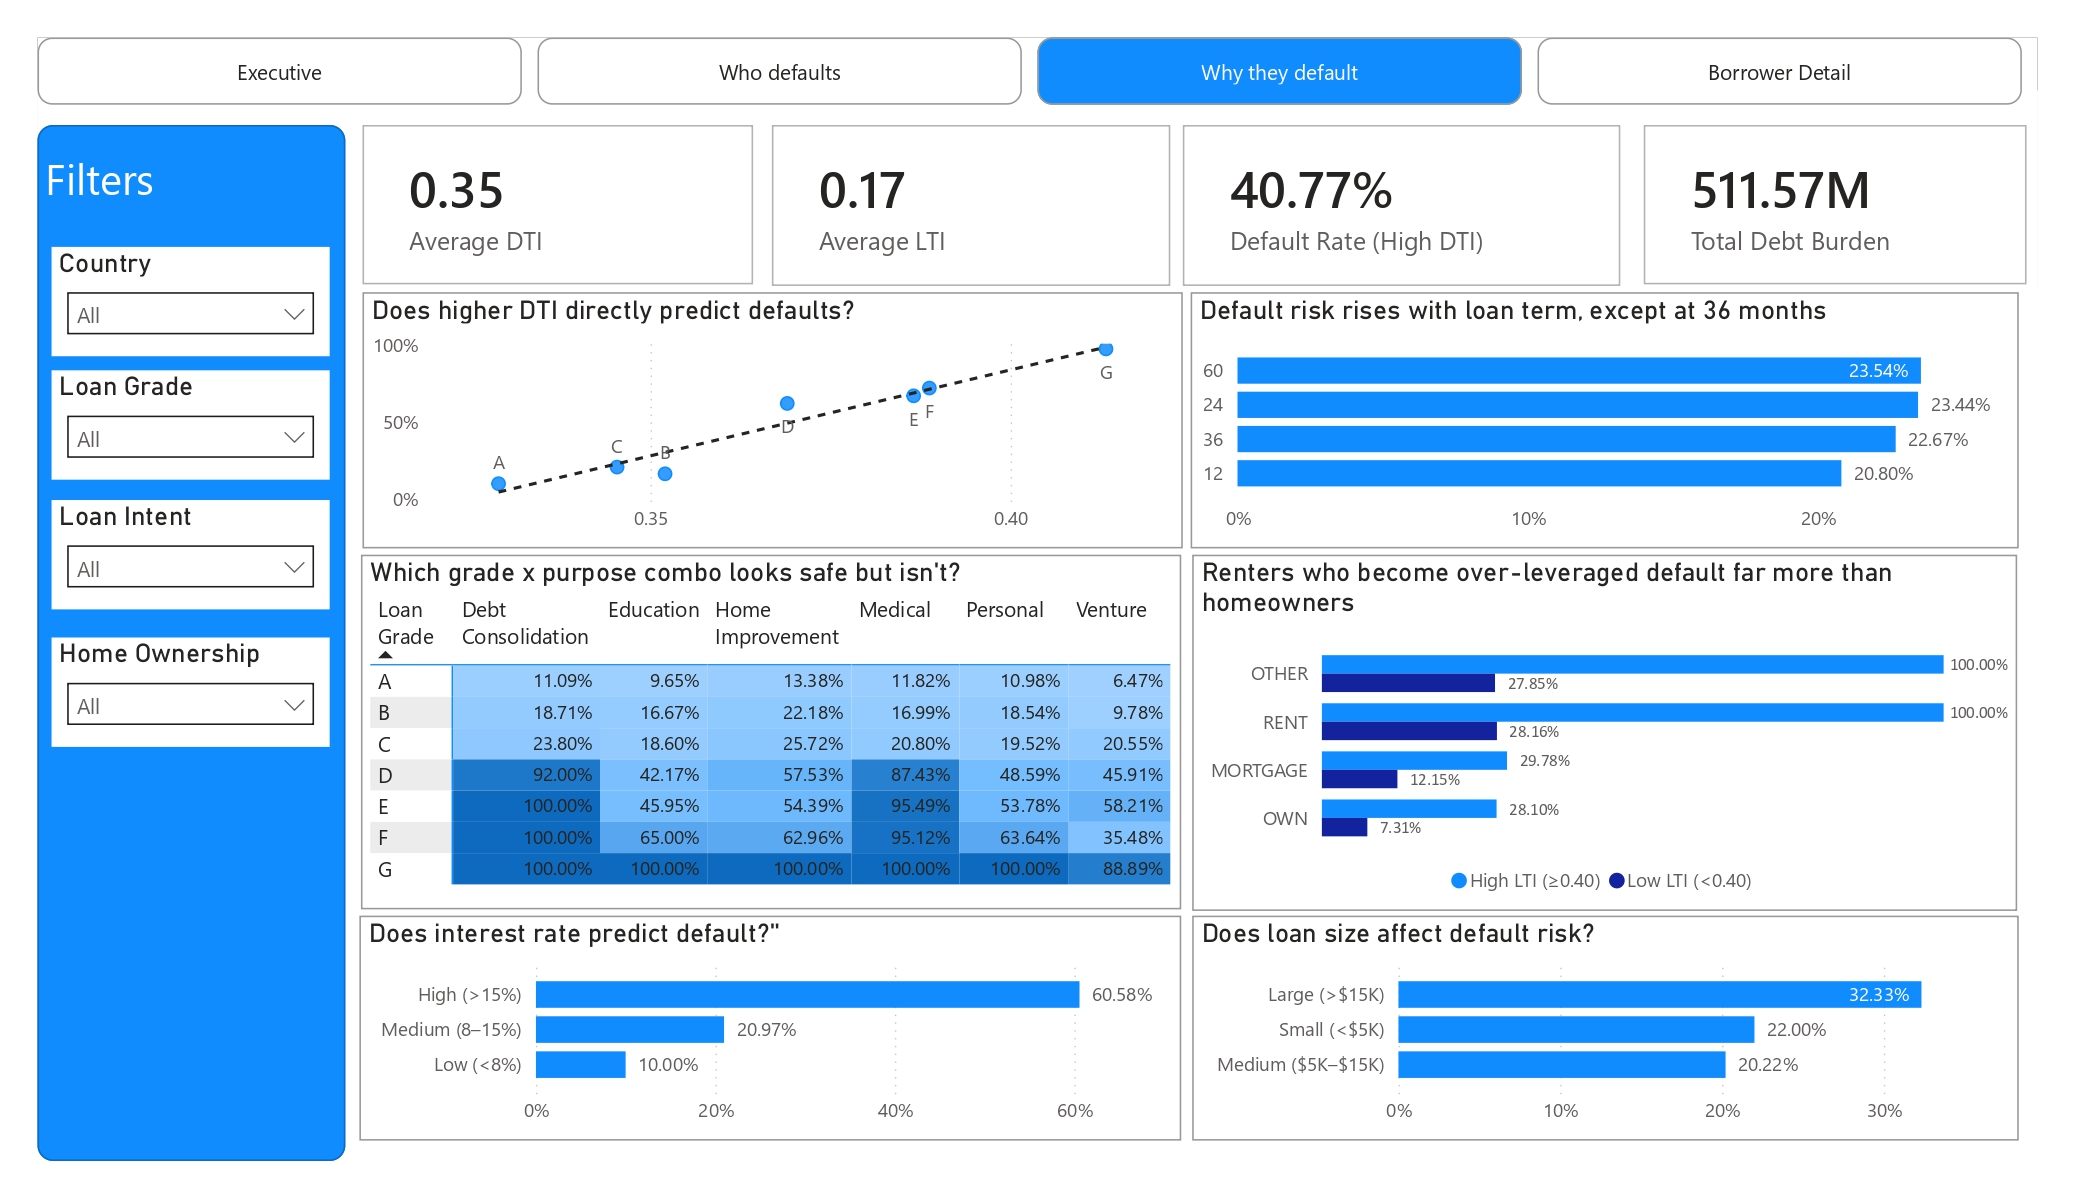

What the dashboard file says about the page in this screenshot:
{"tool":"powerbi","page":{"name":"Why they default","canvas":[1280,720],"ordinal":2},"visuals":[{"type":"shape","box":[0,55.7,197.1,662.9],"z":0},{"type":"cardVisual","fields":{"Data":["_Measures.Average DTI"]},"box":[207.8,56.1,250.7,102.2],"z":1000},{"type":"cardVisual","fields":{"Data":["_Measures.Average LTI"]},"box":[470,56.2,255,102.5],"z":2000},{"type":"cardVisual","fields":{"Data":["_Measures.Default Rate (High DTI)"]},"box":[732.5,56.2,280,102.5],"z":3000},{"type":"clusteredBarChart","title":"Renters who become over-leveraged default far more than homeowners","fields":{"Category":["Dim_Borrower.person_home_ownership"],"Series":["Fact_CreditRisk.LTI_Tier"],"Y":["_Measures.Default Rate"]},"box":[738.6,331.4,528.6,227.1],"z":4000},{"type":"clusteredBarChart","title":"Default risk rises with loan term, except at 36 months","fields":{"Category":["Fact_CreditRisk.loan_term_months"],"Y":["_Measures.Default Rate %"]},"box":[738,163,530,164],"z":5000},{"type":"cardVisual","fields":{"Data":["_Measures.Total Debt Burden"]},"box":[1027.5,56,245.1,102],"z":6000},{"type":"pageNavigator","box":[0,0,1273.1,42.9],"z":7000},{"type":"scatterChart","title":"Does higher DTI directly predict defaults?","fields":{"Category":["Dim_Loan_Type.loan_grade"],"X":["_Measures.Average DTI"],"Y":["_Measures.Default Rate"]},"box":[208,163,525,164],"z":8000},{"type":"textbox","box":[0,67.1,198.6,52.9],"z":9000},{"type":"pivotTable","title":"Which grade x purpose combo looks safe but isn''t?","fields":{"Columns":["Dim_Loan_Type.Loan_Intent_Label"],"Rows":["Dim_Loan_Type.loan_grade"],"Values":["_Measures.Default Rate %"]},"box":[207,331,525,227],"z":10000},{"type":"slicer","title":"Loan Grade","fields":{"Values":["Dim_Loan_Type.loan_grade"]},"box":[8.6,212.9,178.6,70],"z":11000},{"type":"slicer","title":"Loan Intent","fields":{"Values":["Dim_Loan_Type.loan_intent"]},"box":[8.6,295.7,178.6,70],"z":12000},{"type":"slicer","title":"Home Ownership","fields":{"Values":["Dim_Borrower.person_home_ownership"]},"box":[8.6,384.3,178.6,70],"z":13000},{"type":"slicer","title":"Country","fields":{"Values":["Dim_Geography.country"]},"box":[8.6,134.3,178.6,70],"z":14000},{"type":"barChart","title":"Does interest rate predict default?\"","fields":{"Category":["Fact_CreditRisk.Interest_Rate_Bucket"],"Y":["_Measures.Default Rate"]},"box":[206,562,526,144],"z":16000},{"type":"barChart","title":"Does loan size affect default risk?","fields":{"Category":["Fact_CreditRisk.Loan_Amount_Bucket"],"Y":["_Measures.Default Rate"]},"box":[739,562,529,144],"z":17000}]}

Visuals, with their boxes on the page's 1280x720 design canvas (x1, y1, x2, y2). These are canvas units, not pixel positions in the 2075x1200 screenshot, which may show the page scaled, cropped or inside an application window:
shape: 0, 56, 197, 719
cardVisual - _Measures.Average DTI: 208, 56, 458, 158
cardVisual - _Measures.Average LTI: 470, 56, 725, 159
cardVisual - _Measures.Default Rate (High DTI): 732, 56, 1012, 159
"Renters who become over-leveraged default far more than homeowners" clusteredBarChart: 739, 331, 1267, 558
"Default risk rises with loan term, except at 36 months" clusteredBarChart: 738, 163, 1268, 327
cardVisual - _Measures.Total Debt Burden: 1028, 56, 1273, 158
pageNavigator: 0, 0, 1273, 43
"Does higher DTI directly predict defaults?" scatterChart: 208, 163, 733, 327
textbox: 0, 67, 199, 120
"Which grade x purpose combo looks safe but isn''t?" pivotTable: 207, 331, 732, 558
"Loan Grade" slicer: 9, 213, 187, 283
"Loan Intent" slicer: 9, 296, 187, 366
"Home Ownership" slicer: 9, 384, 187, 454
"Country" slicer: 9, 134, 187, 204
"Does interest rate predict default?"" barChart: 206, 562, 732, 706
"Does loan size affect default risk?" barChart: 739, 562, 1268, 706
